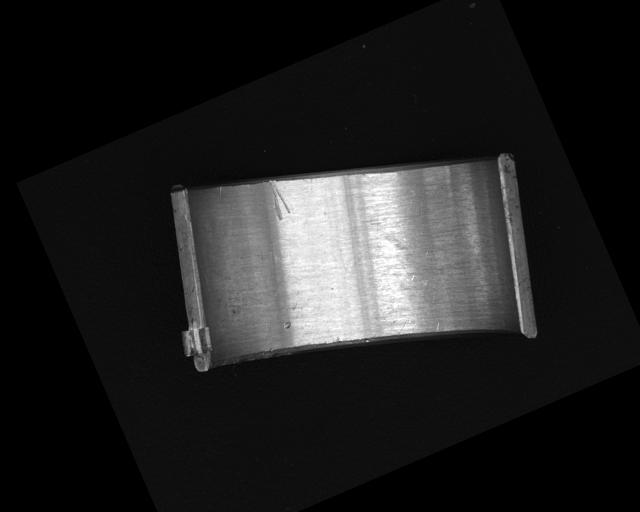bruise: (281, 319, 293, 332)
nick: (261, 176, 294, 221), (214, 184, 226, 198)
